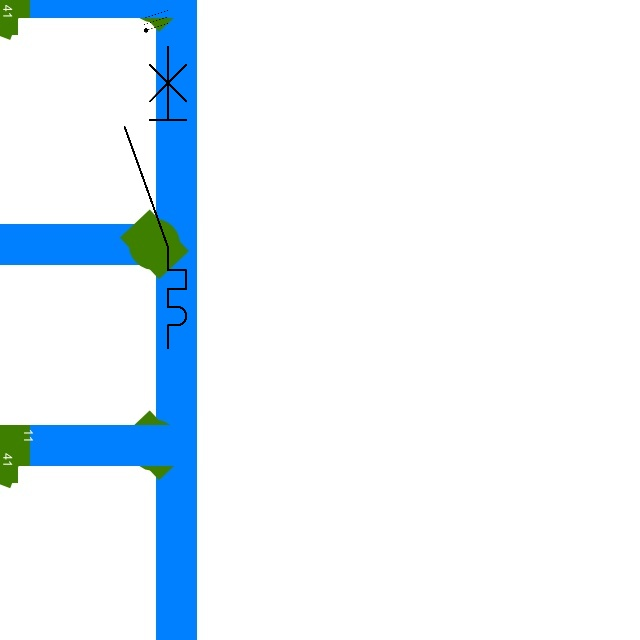interruptor_termomagnetico: (117, 38, 194, 355)
